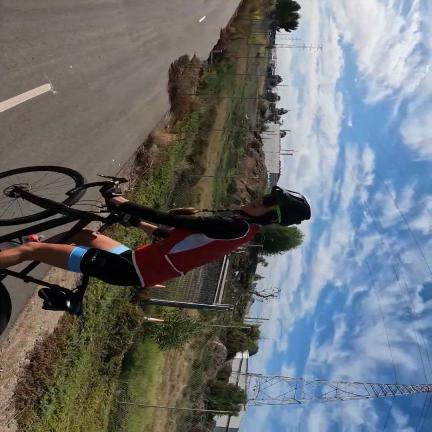Bike_Lane: (0, 0, 240, 178)
